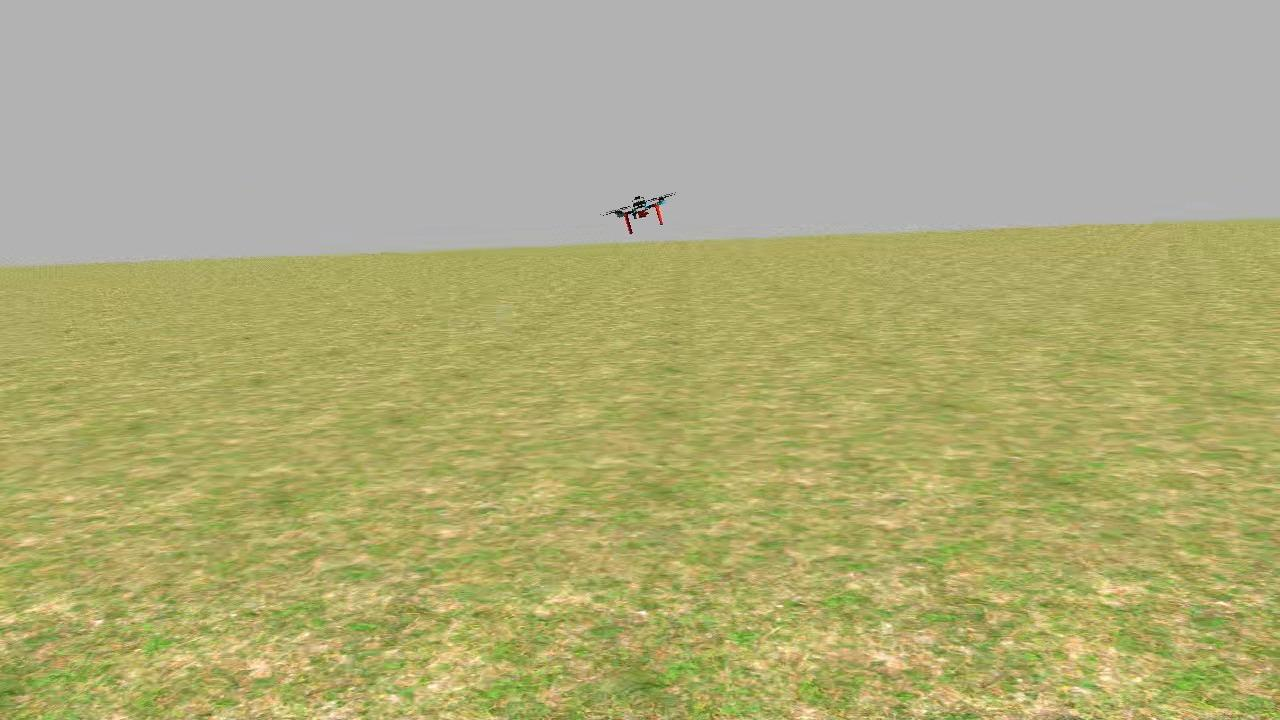UAV: (597, 186, 682, 239)
